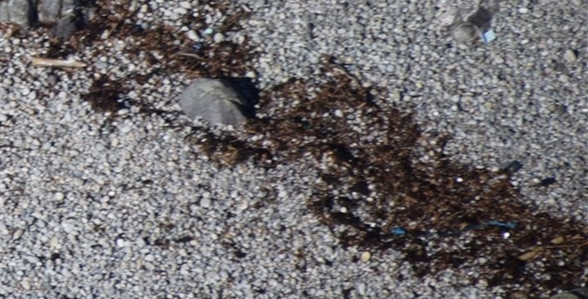straight_bar: (30, 49, 93, 76)
white_in_green: (473, 195, 532, 251), (377, 205, 425, 254), (464, 13, 514, 54)
